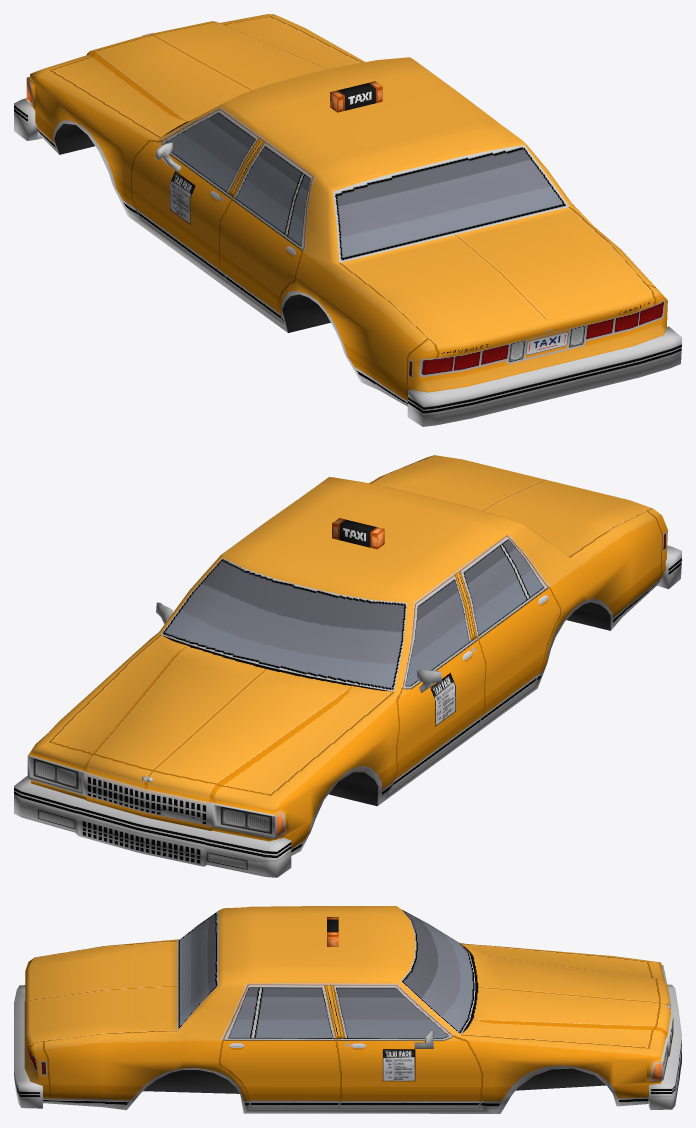
Rendered from 77capricetaxi1.fbx.
3 views of the same model, one above another, from view 1: azimuth 30°, elevation 25°; view 2: azimuth 150°, elevation 25°; view 3: azimuth 270°, elevation 25° (orthographic). The views are drawn at different scales.
Visible parts, largest first — view 1: 77caprice; view 2: 77caprice; view 3: 77caprice.
Boxes of the visible parts, x1,y1,x2,y2 form: 77caprice: [14, 14, 681, 426]; 77caprice: [14, 455, 681, 877]; 77caprice: [14, 906, 681, 1113].
Size of the model in its own units: 2.12 by 1.23 by 5.37.
